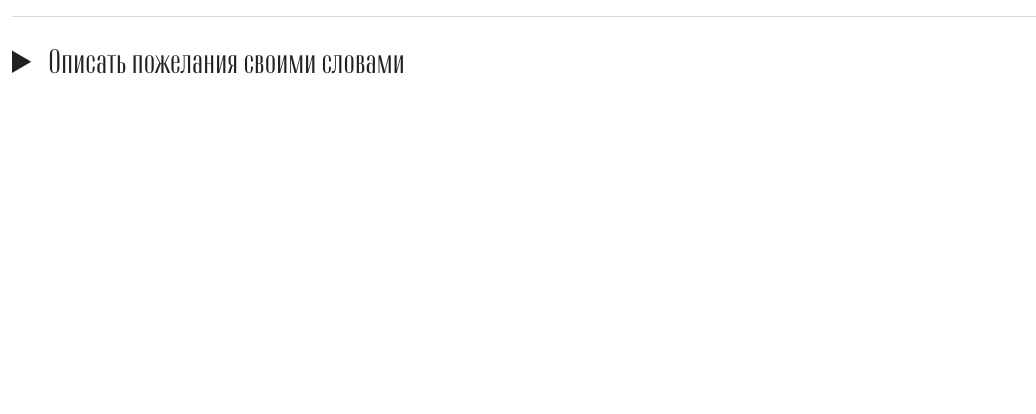
Test: catalog mutation presents explicit confirmation and never writes on first query
Step 1. Click the heading "Описать пожелания своими словами" → [226, 63], box x1=48 y1=44 x2=405 y2=82
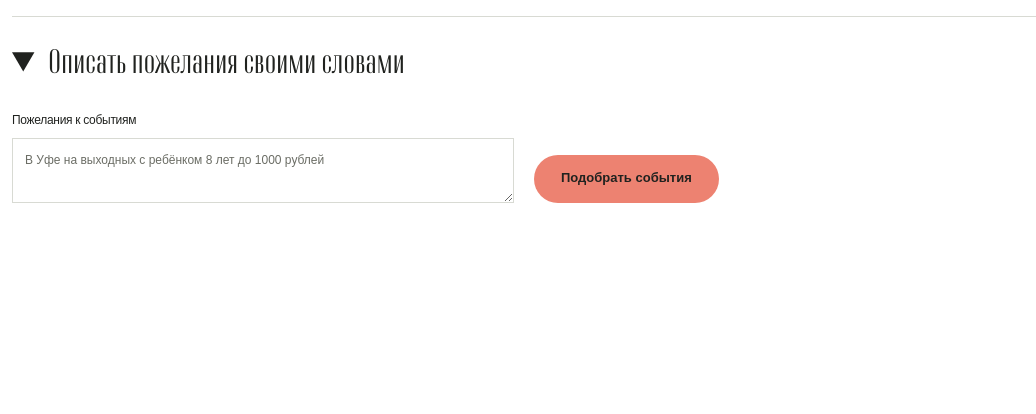
Step 2. Type "Подпиши на Уфу" into the text box labelled "Пожелания к событиям" → [263, 170], box x1=12 y1=138 x2=514 y2=203
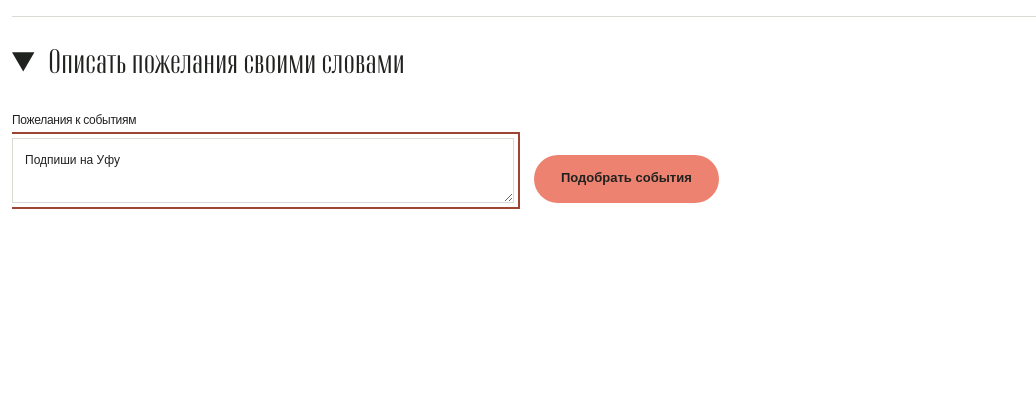
Step 3. Click the button "Подобрать события" → [626, 179], box x1=534 y1=155 x2=719 y2=203
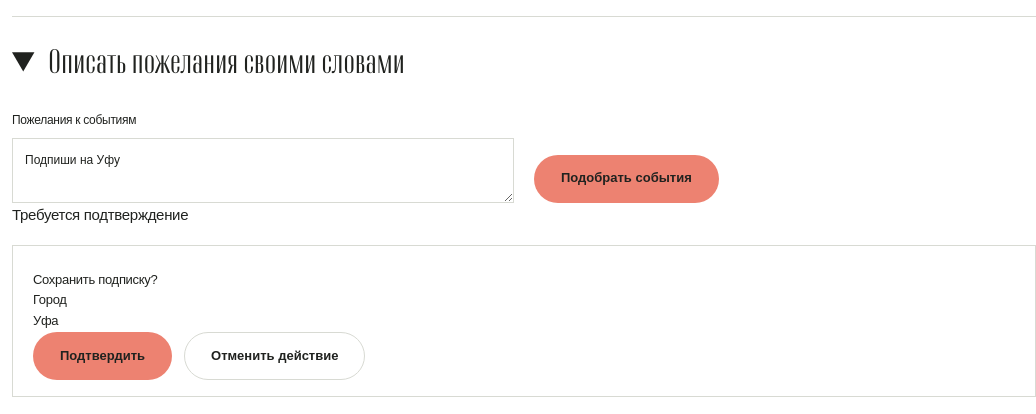
Expected: the button "Подтвердить" is shown, x1=33 y1=332 x2=172 y2=380
Step 4. Click the button "Отменить действие" → [275, 356], box x1=184 y1=332 x2=365 y2=380
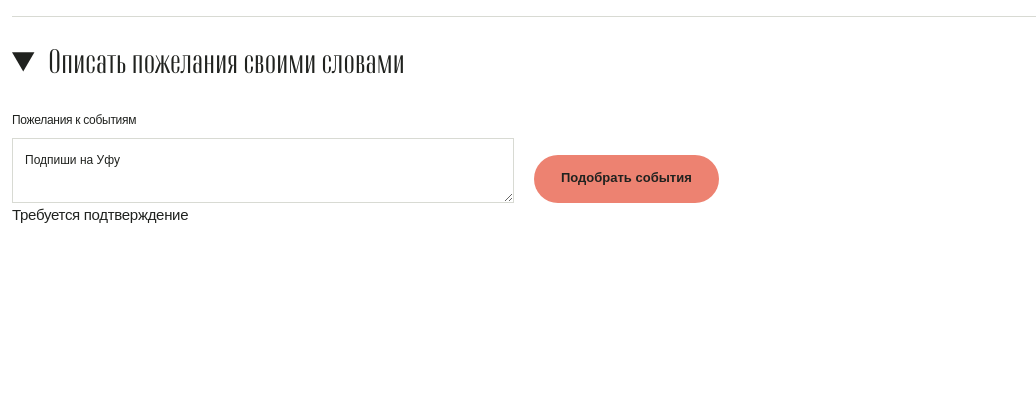
Expected: the button "Подтвердить" is gone
